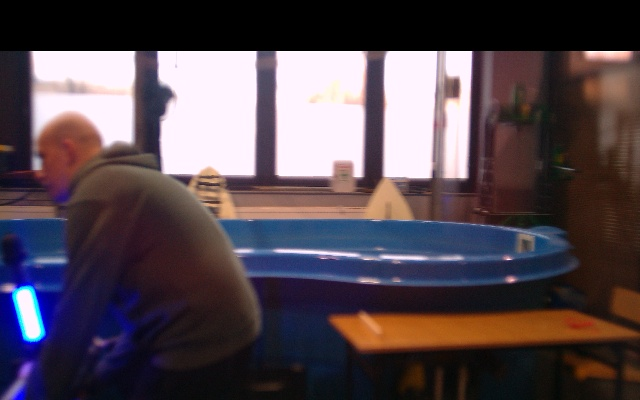blue: (13, 286, 46, 343)
